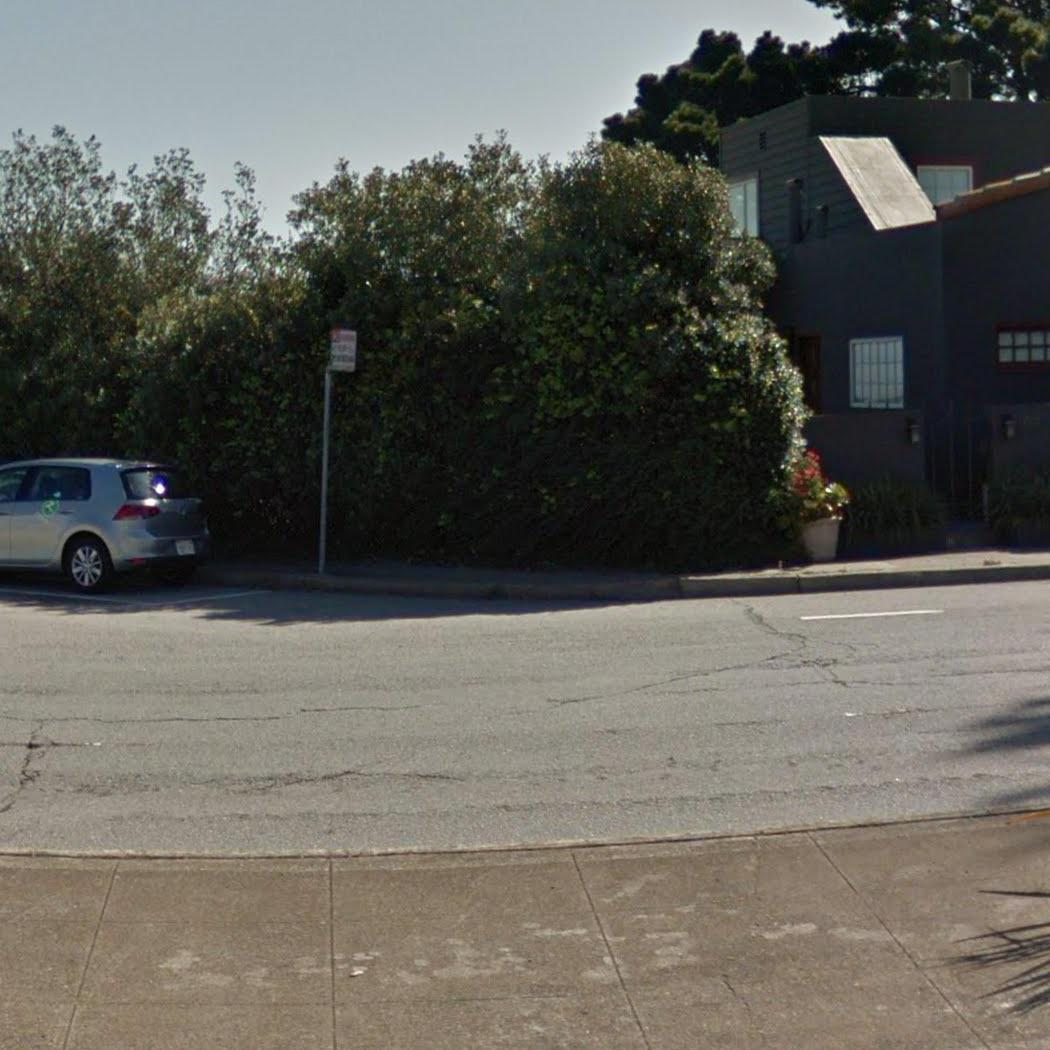No Parking: (329, 325, 359, 374)
